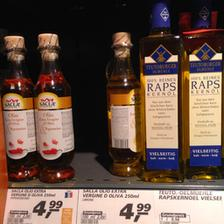Oel: (138, 4, 182, 182), (181, 6, 223, 178), (30, 34, 74, 180), (100, 31, 142, 174), (0, 32, 36, 180)
